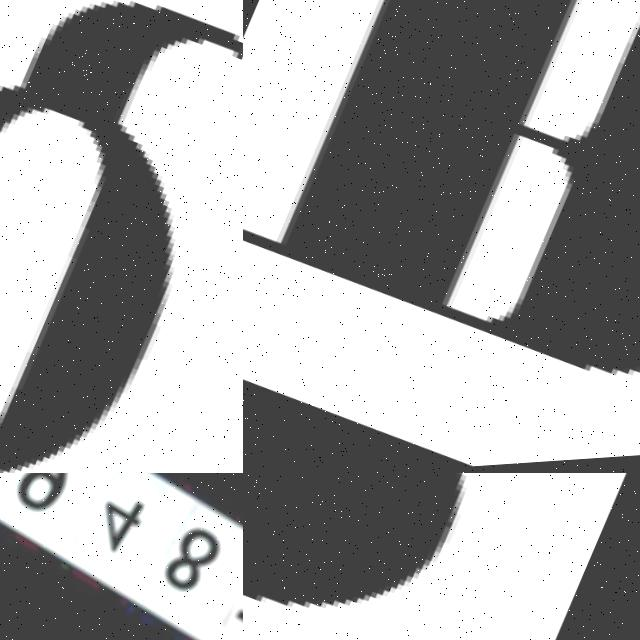3: (243, 473, 629, 640)
4: (67, 473, 159, 580)
7: (216, 551, 243, 640)
8: (137, 506, 237, 625)
9: (0, 473, 92, 542)
Q: (0, 0, 243, 473)
R: (243, 0, 640, 441)
